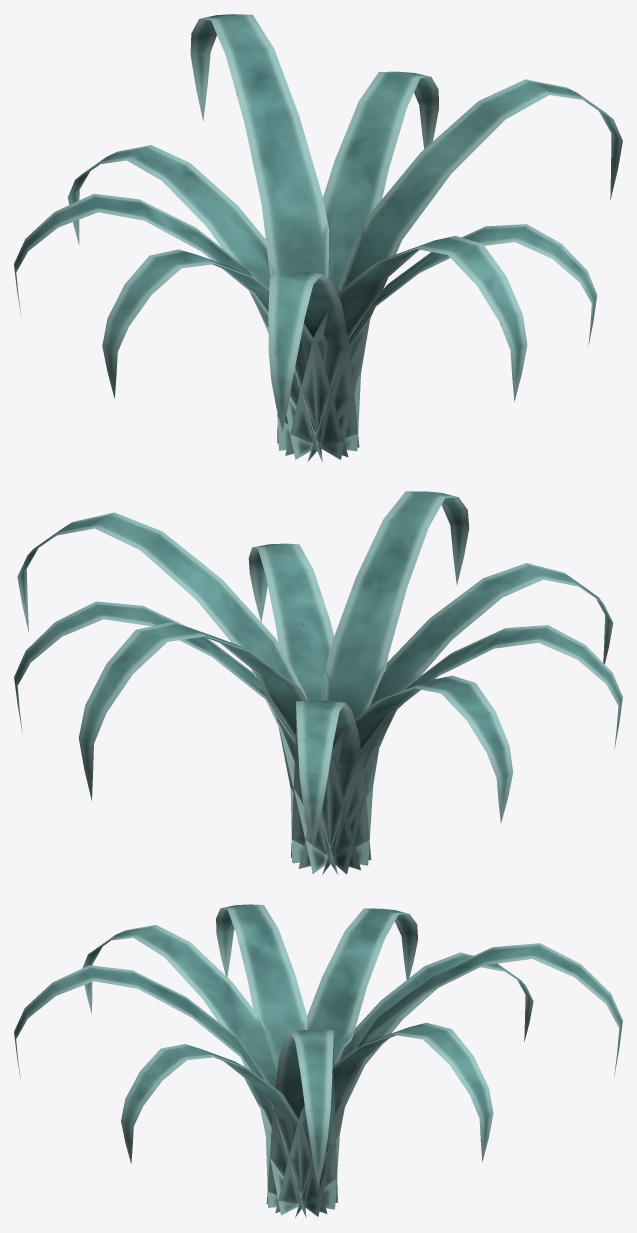
The model's file is underworld-flora-blackwater-brine-fern.glb.
The picture shows the model from 3 angles, top to bottom: view 1: azimuth 30°, elevation 25°; view 2: azimuth 150°, elevation 25°; view 3: azimuth 270°, elevation 25°; orthographic projection. The views are drawn at different scales.
Parts seen in each view (by area): view 1: fronds; view 2: fronds; view 3: fronds.
Part boxes in pixels (x1=…): fronds: x1=14, y1=14, x2=622, y2=462; fronds: x1=14, y1=491, x2=622, y2=875; fronds: x1=14, y1=904, x2=622, y2=1217.
Size of the model in its own units: 1.26 by 0.6796 by 1.36.
1 material, 1 textured.
